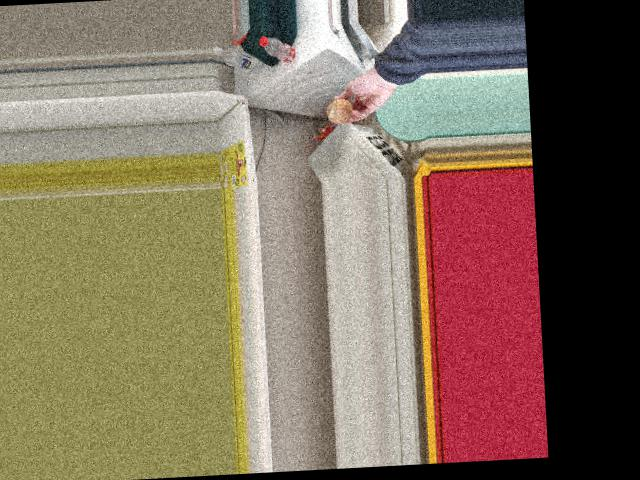sweet_potato: (327, 98, 356, 121)
